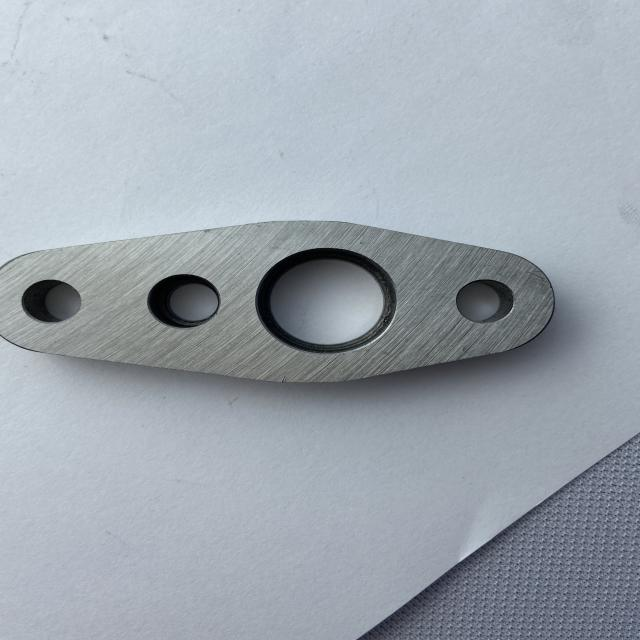chap: (280, 375, 287, 382)
lines: (528, 268, 546, 287)
